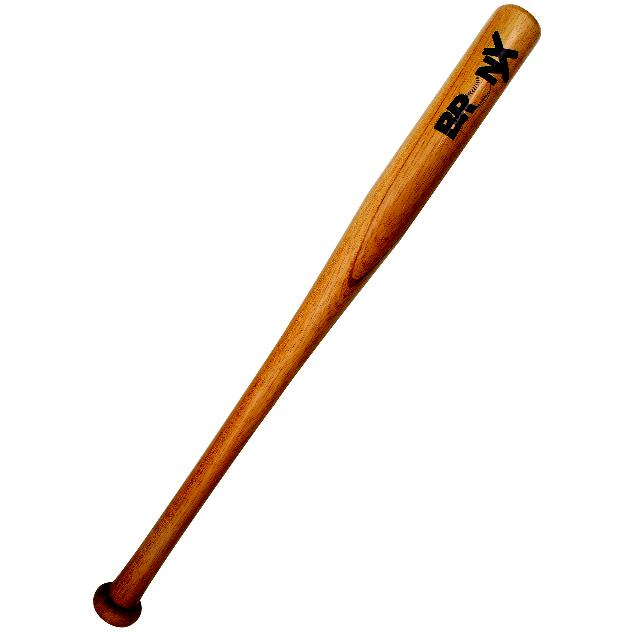baseball bat: (87, 3, 543, 630)
